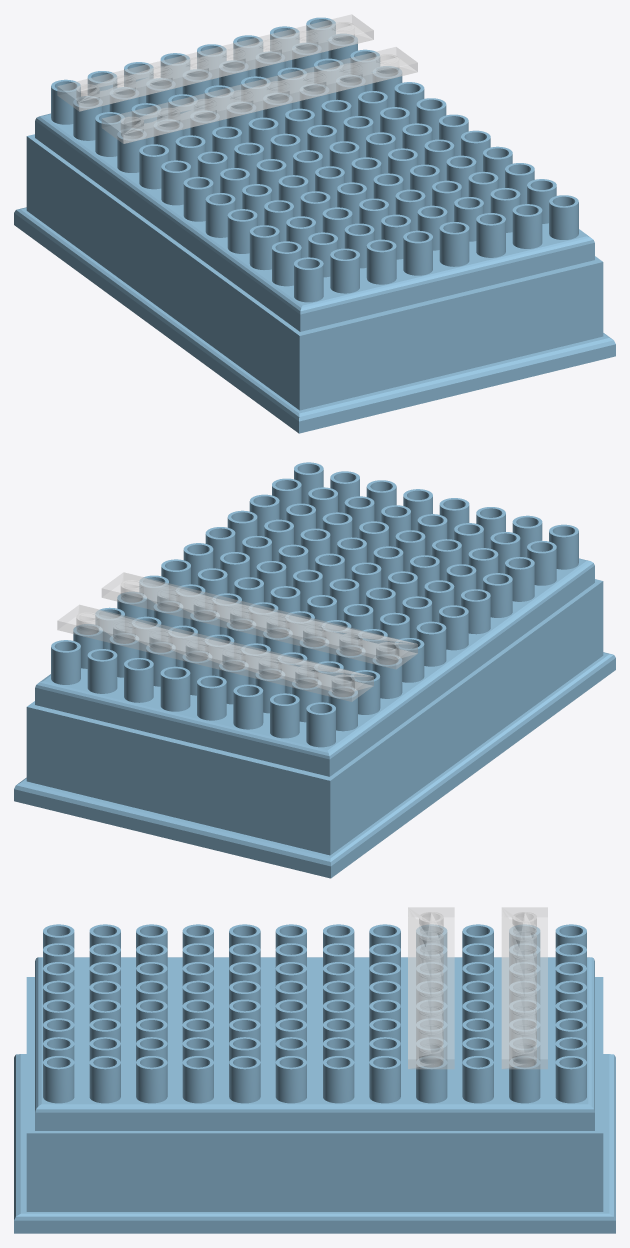
File: 装横排试管的蓝盒子(1).fbx
3 renders of one model, top to bottom at view 1: azimuth 30°, elevation 25°; view 2: azimuth 150°, elevation 25°; view 3: azimuth 270°, elevation 25°, orthographic. The views are drawn at different scales.
Parts seen in each view (by area): view 1: 排列试管.002, 立方体.002, 排列试管.014, 排列试管.015; view 2: 排列试管.002, 立方体.002, 排列试管.014, 排列试管.015; view 3: 立方体.002, 排列试管.002, 排列试管.015, 排列试管.014.
Boxes of the visible parts, x1,y1,x2,y2 form: 排列试管.002: (51, 17, 578, 302); 立方体.002: (14, 113, 615, 433); 排列试管.014: (57, 14, 373, 111); 排列试管.015: (101, 47, 417, 143); 排列试管.002: (51, 462, 578, 747); 立方体.002: (14, 558, 615, 878); 排列试管.014: (57, 604, 373, 701); 排列试管.015: (101, 572, 417, 669); 立方体.002: (14, 957, 615, 1233); 排列试管.002: (43, 924, 586, 1103); 排列试管.015: (408, 907, 454, 1069); 排列试管.014: (501, 907, 547, 1069).
Size of the model in its own units: 98.64 by 47.61 by 154.
